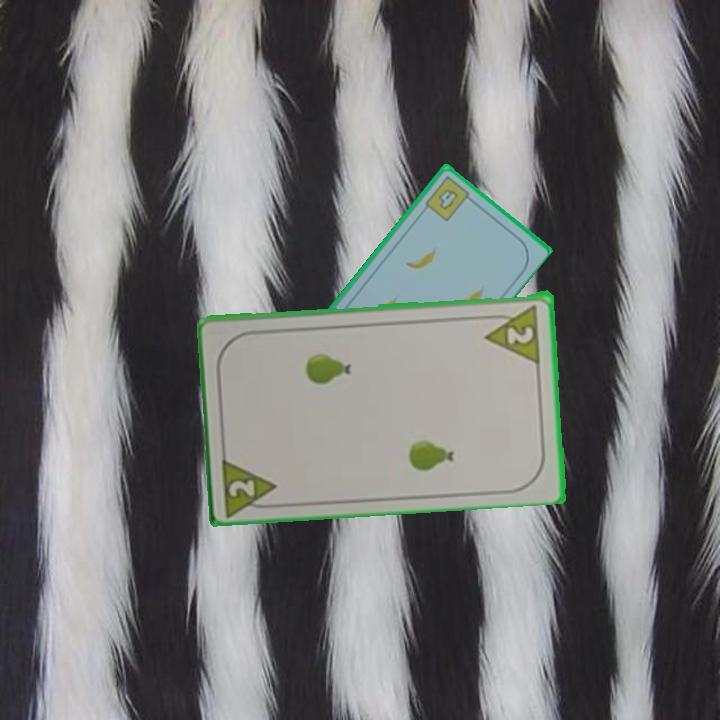2p: (219, 451, 282, 516), (481, 300, 543, 364)
4b: (421, 172, 476, 224)
